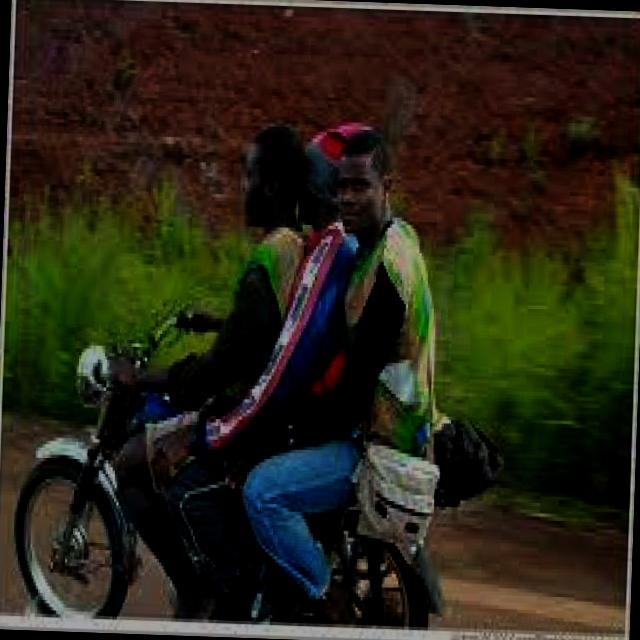motorcycle: (5, 327, 526, 640)
person: (213, 117, 364, 534), (314, 122, 470, 515), (276, 119, 396, 467)
rider_region: (19, 110, 458, 630)
